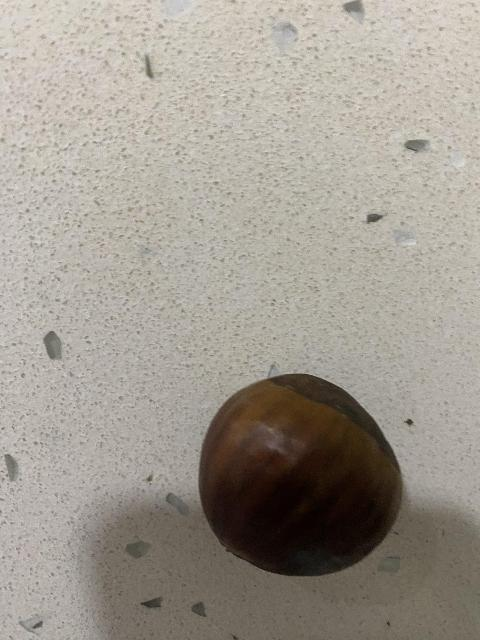Organik: (202, 368, 403, 576)
